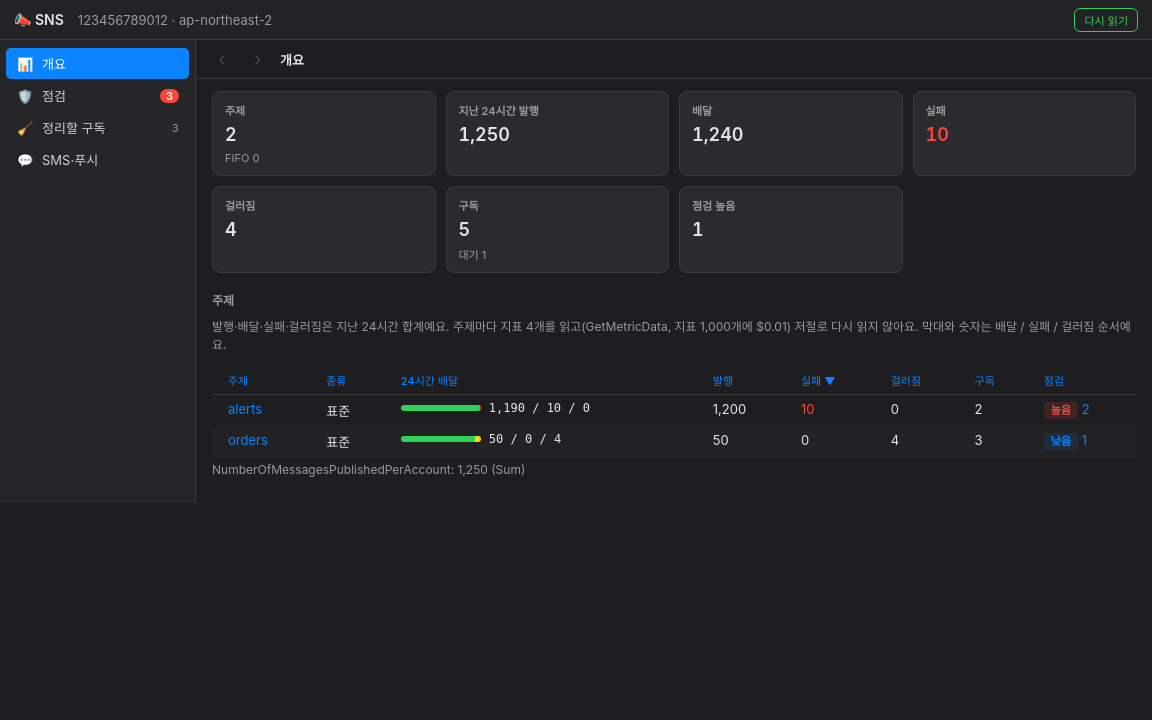
it: SMS and push are a separate view with cards and tables
Check: the table "주제" is shown, box [212,366,1136,457]
Click the button "💬 SMS·푸시" at (98, 160), box [6,144,189,175]
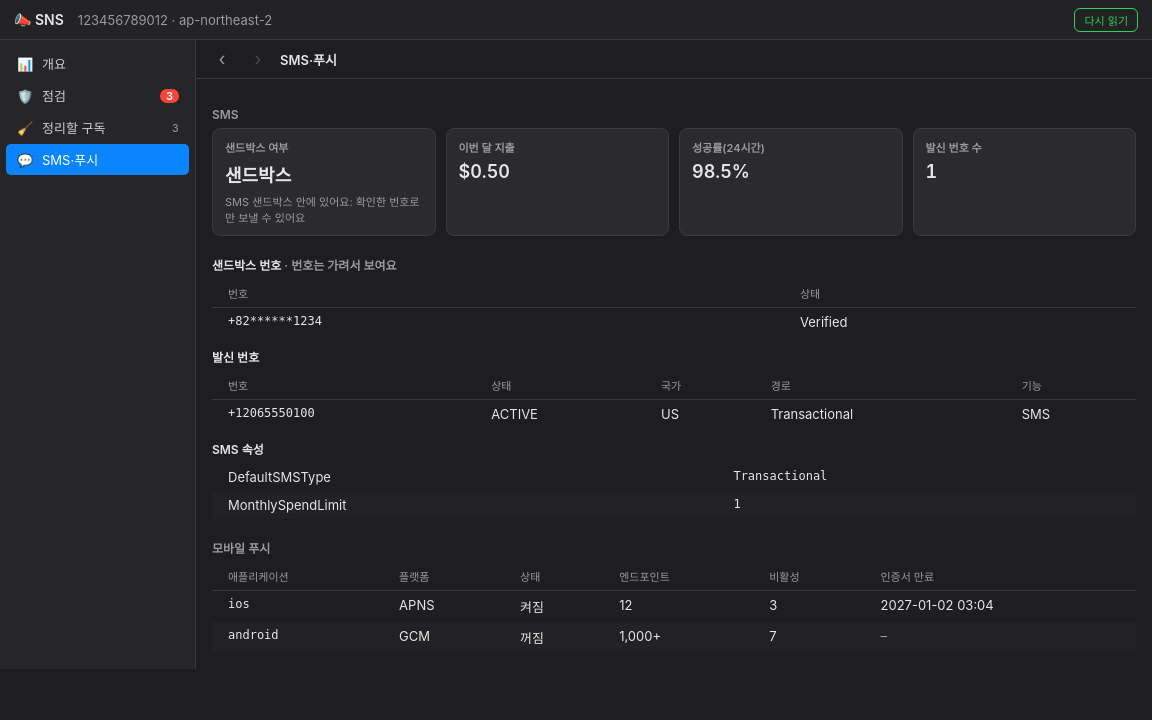
Check: the text "$0.50" is shown, box [458,161,510,182]
Check: the text "98.5%" is shown, box [692,161,750,182]
Check: the table named "발신 번호" shows "+12065550100", box [228,406,315,420]
